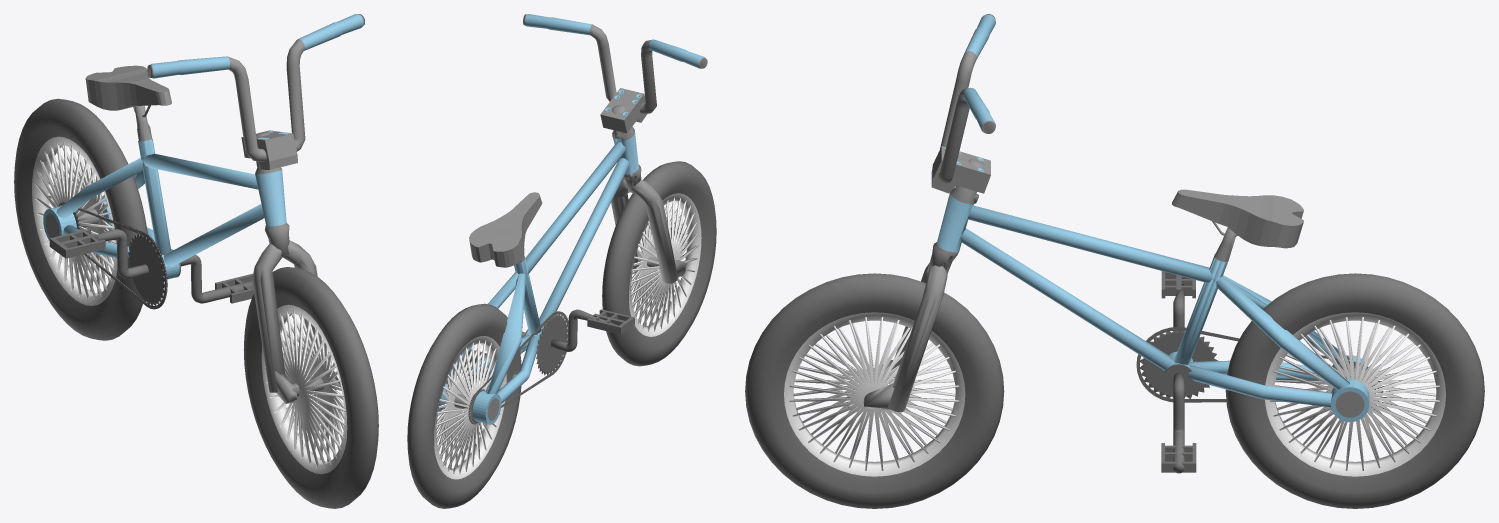
Rendered from bike.glb.
3 views of the same model, side by side, from view 1: azimuth 30°, elevation 25°; view 2: azimuth 150°, elevation 25°; view 3: azimuth 270°, elevation 25° (orthographic). The views are drawn at different scales.
Parts seen in each view (by area): view 1: Cubo.001_Cubo.004; view 2: Cubo.001_Cubo.004; view 3: Cubo.001_Cubo.004.
Part boxes in pixels (left/top/right/bottom): Cubo.001_Cubo.004: left=14, top=14, right=378, bottom=508; Cubo.001_Cubo.004: left=407, top=14, right=716, bottom=508; Cubo.001_Cubo.004: left=745, top=14, right=1484, bottom=508.
Size of the model in its own units: 0.5295 by 0.9943 by 1.51.
